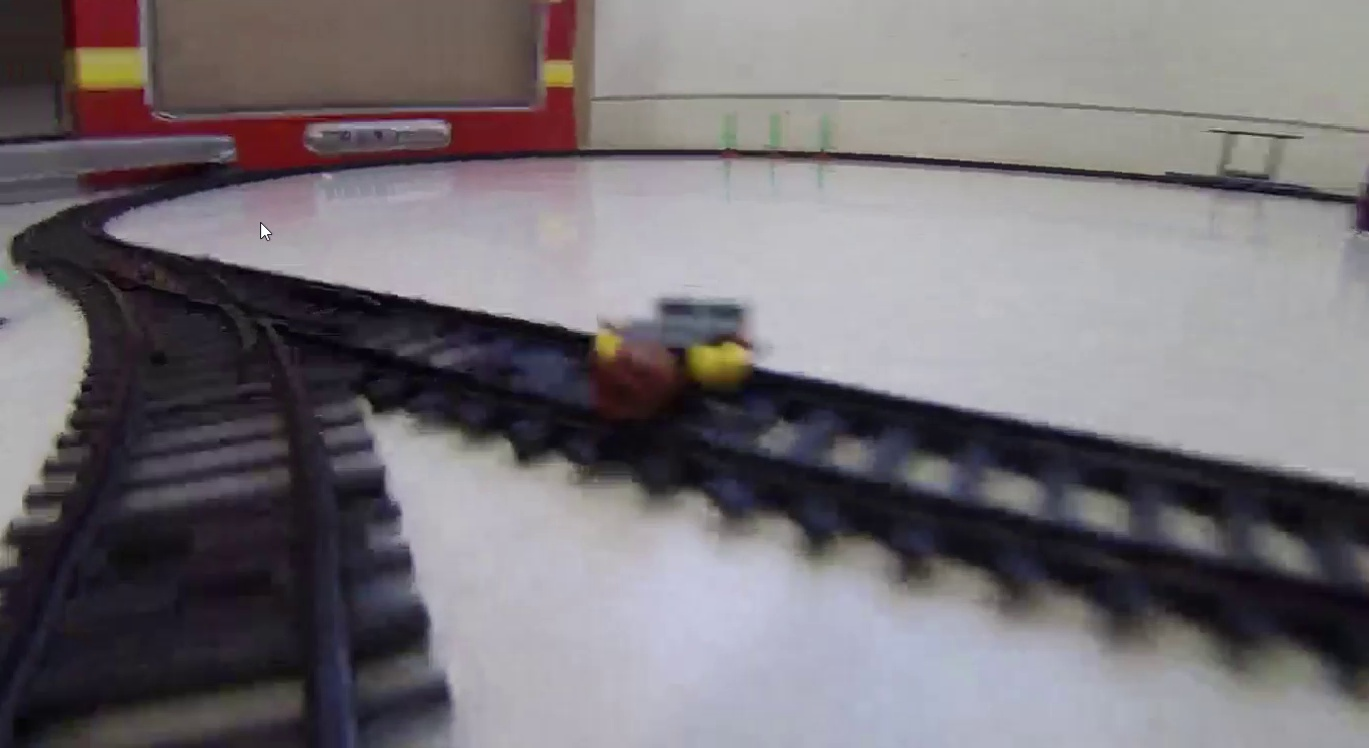people: (591, 298, 763, 428)
